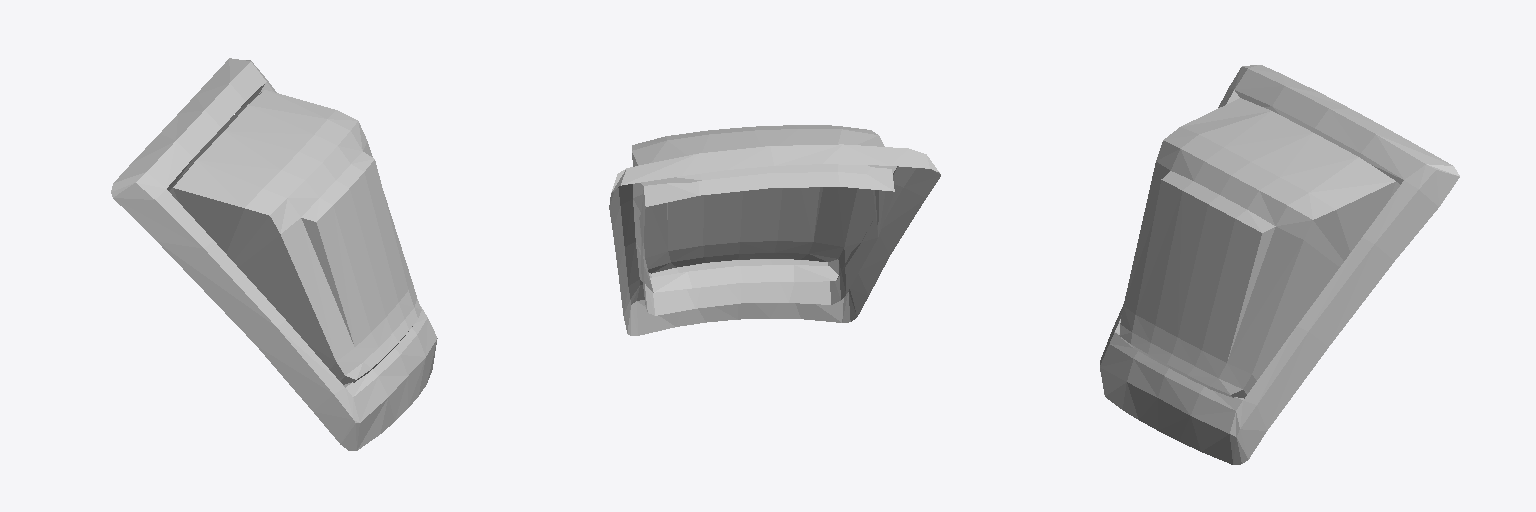
File: vespa_backlight.obj
3 renders of one model, left to right at view 1: azimuth 30°, elevation 25°; view 2: azimuth 150°, elevation 25°; view 3: azimuth 270°, elevation 25°, orthographic.
Size of the model in its own units: 14.88 by 12.06 by 14.66.